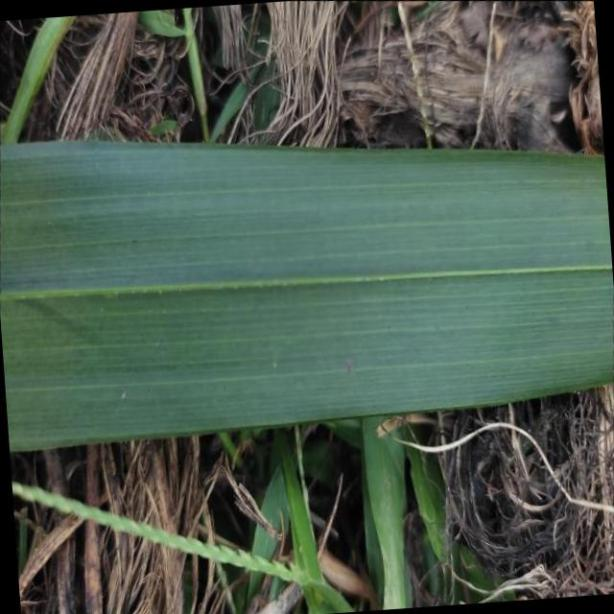Healthy: (0, 144, 614, 452)
